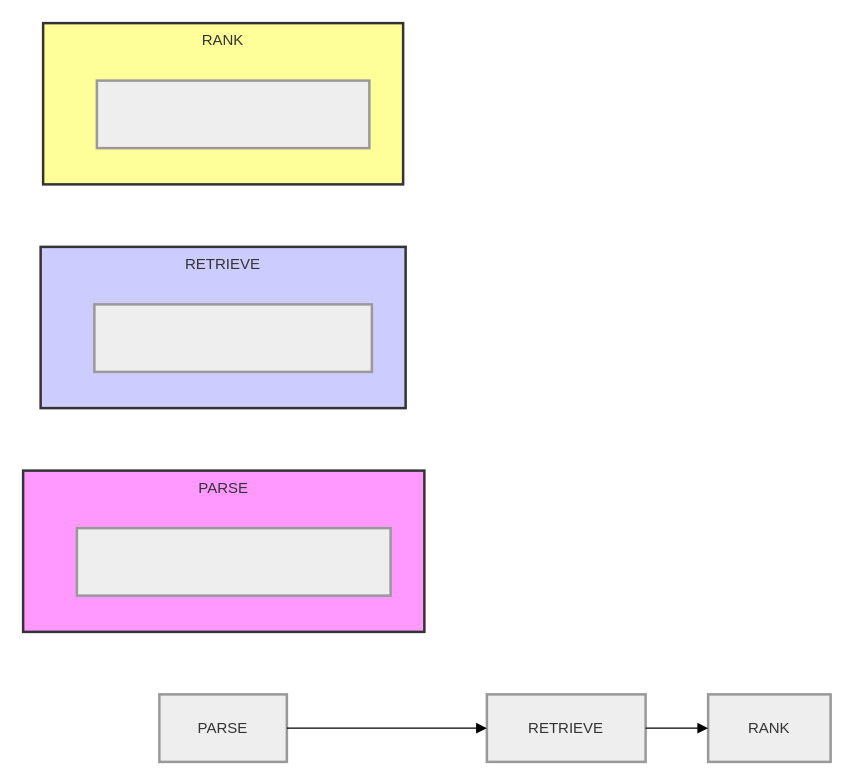
This 853x784 diagram has some shape labels left out. Each missing label, with the centre of its shape:
"Extract text and metadata" belongs at point 233,561.
"Query vector database" belongs at point 232,337.
"Re-order by relevance" belongs at point 232,114.
